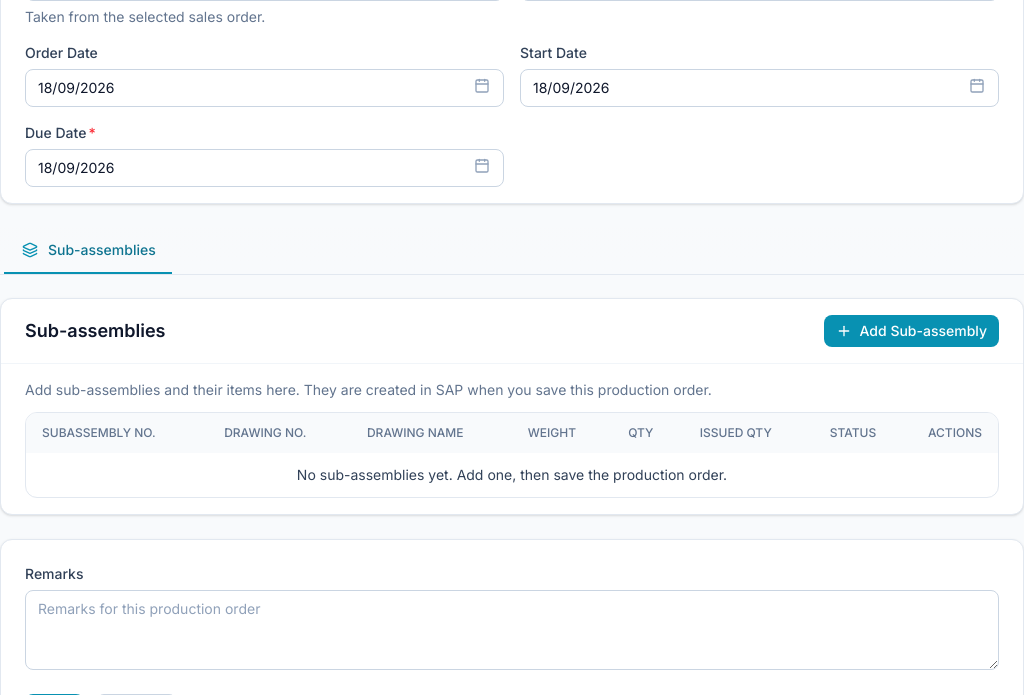
Test: ProductionOrderFormPage › lets the user add a sub-assembly while creating a new production order
This screenshot has width=1024, height=695.
(page scrolled)
Check: the text "created in SAP when you save this production order" is shown, box [25,381,712,398]
Click the button "Add Sub-assembly" at (911, 331), box [824,315,999,347]
(page scrolled)
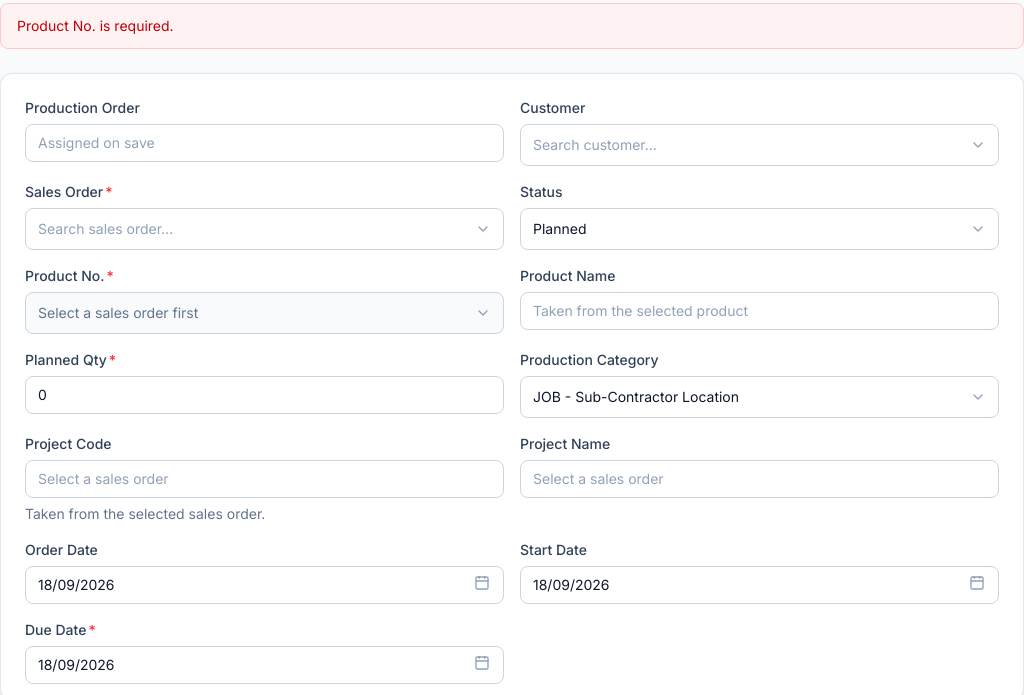
Check: the message reads "Product No. is required.", box [17,17,174,34]
